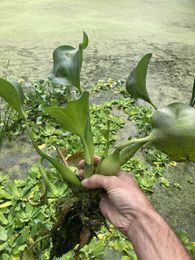water_hyacinth: (0, 30, 195, 238)
